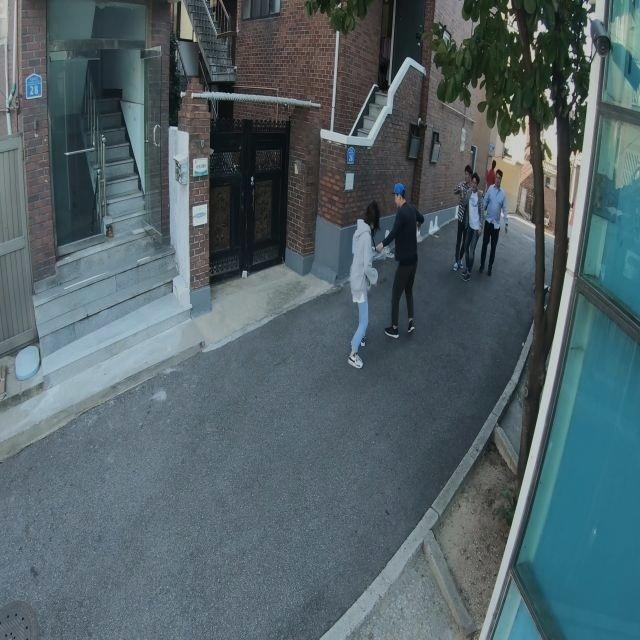fight: (345, 185, 422, 368)
non-fight: (455, 169, 482, 277), (480, 168, 505, 277)
